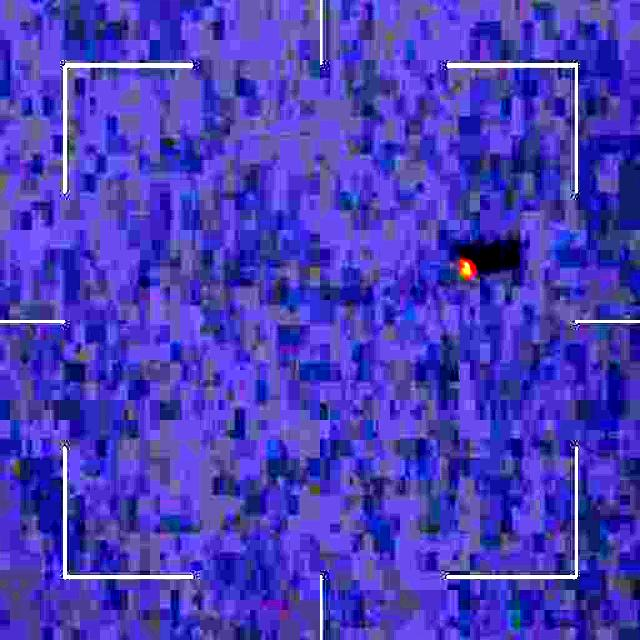bird: (458, 248, 486, 289)
